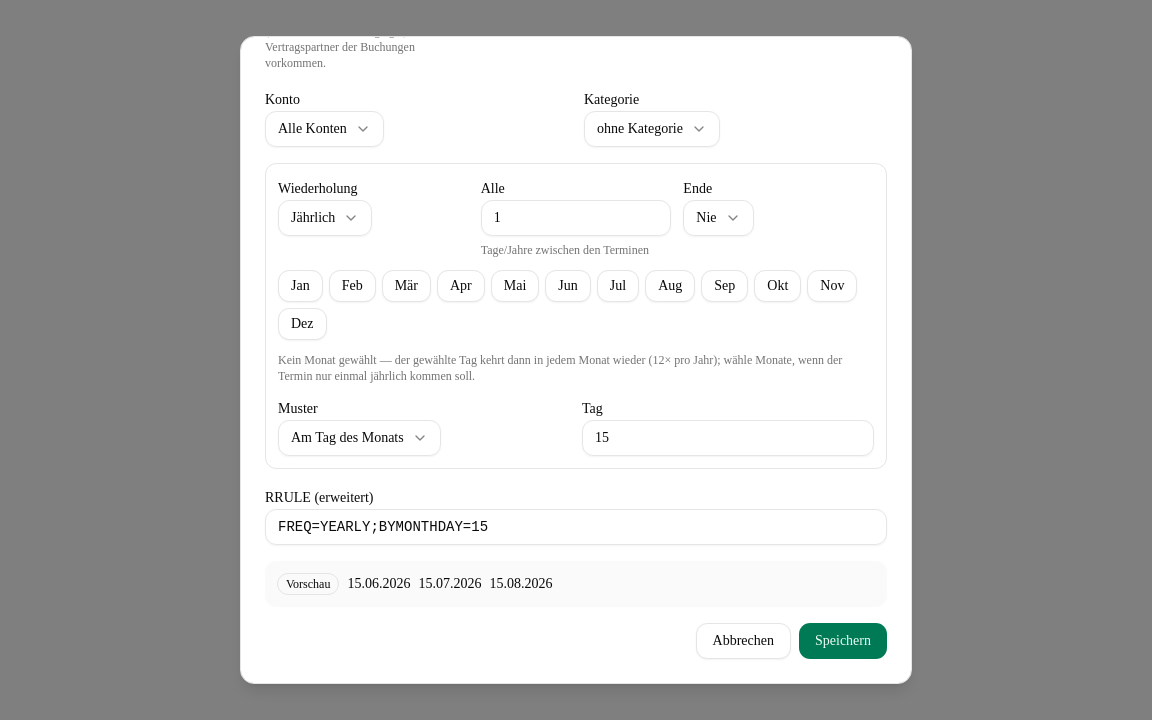
Scenario: plan dialog: invalid builder input must not crash the page › an empty 'Tag im Monat' field hints the bare FREQ=YEARLY anniversary, not the 12×-per-year copy
(page scrolled)
…clearing it switches the hint to the anniversary copy
Clear the field labelled "Tag" at (728, 438), box [582,420,874,456]
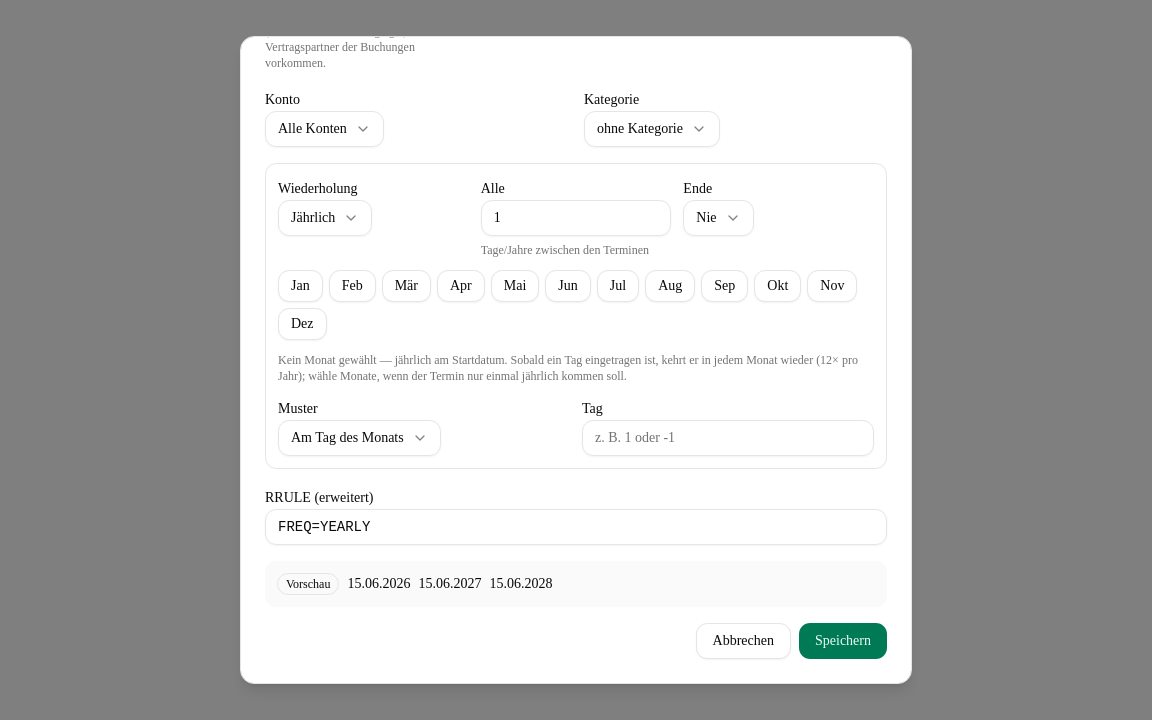
Expected: the text "jährlich am Startdatum" is shown, [278,353,858,383]
Expected: the text "kehrt dann in jedem Monat" is gone
